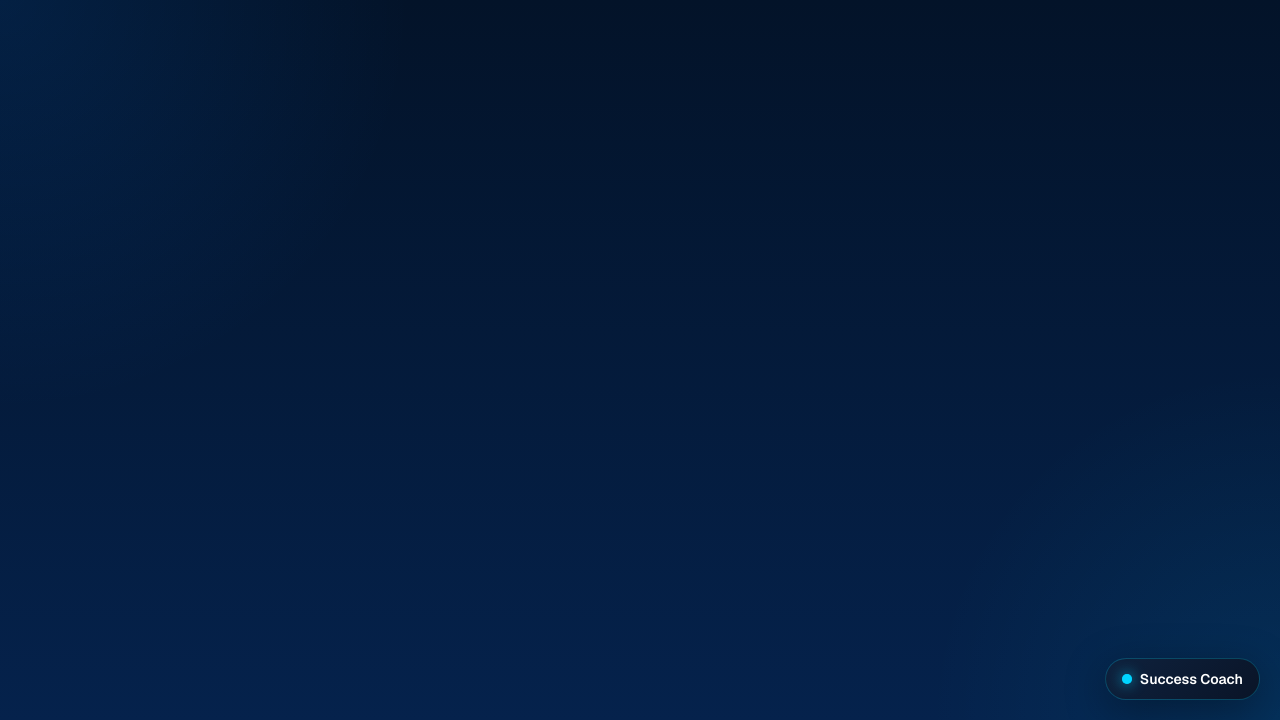
Scenario: SuccessCoachDock › streams the reply progressively from /api/chat without touching Mentor history
Later steps or results of the test are not shown.
Click the button "Success Coach". click: (1182, 679)
box: [1105, 658, 1260, 700]
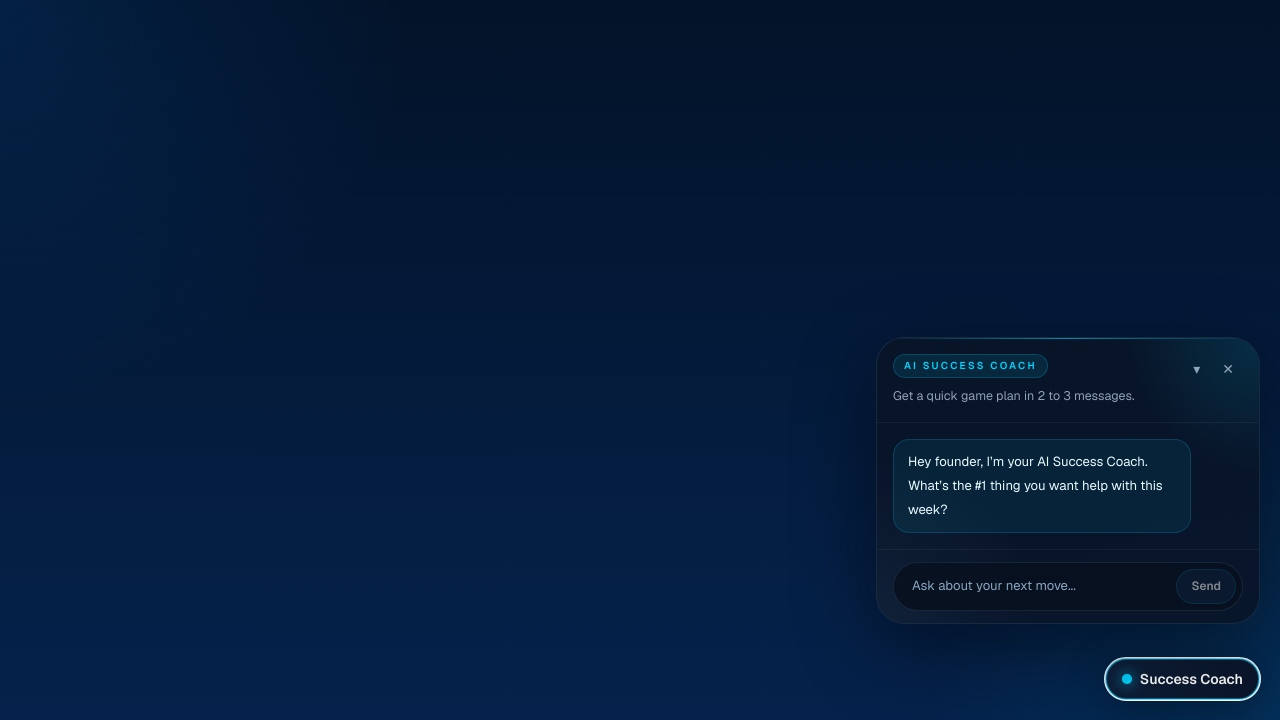
Type "Help me plan my week" into the field named "Message your Success Coach". click: (1034, 586)
box: [900, 571, 1168, 602]
Then press Enter
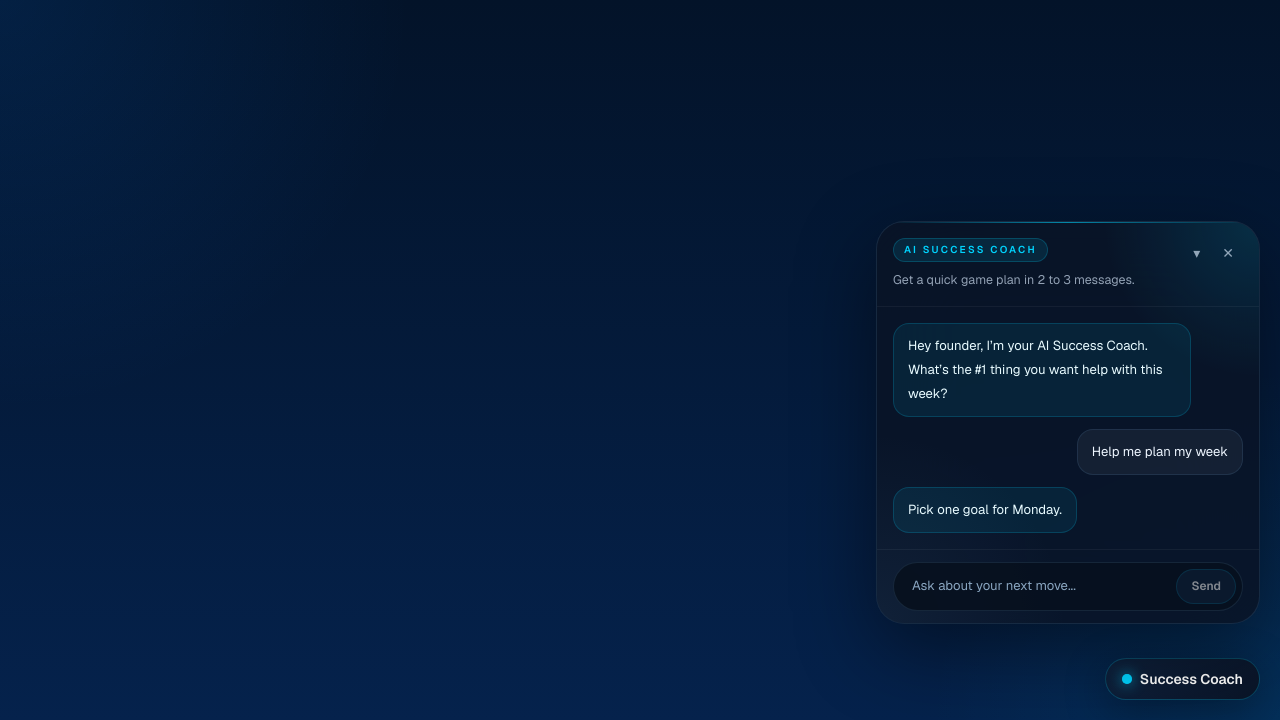
expect the button "Send" is shown: met, box [1176, 569, 1236, 604]
expect the text "Pick one" is shown: met, box [908, 501, 1062, 518]
expect the text "Pick one goal for Monday." is shown: met, box [893, 487, 1077, 533]
